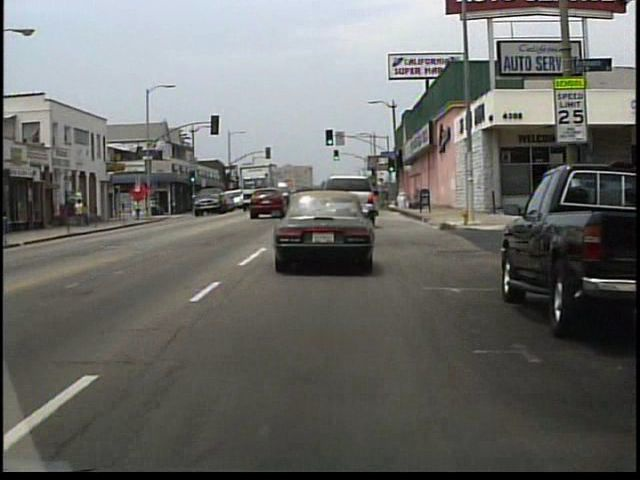person: (75, 198, 86, 226), (84, 201, 93, 226), (134, 198, 144, 219)
